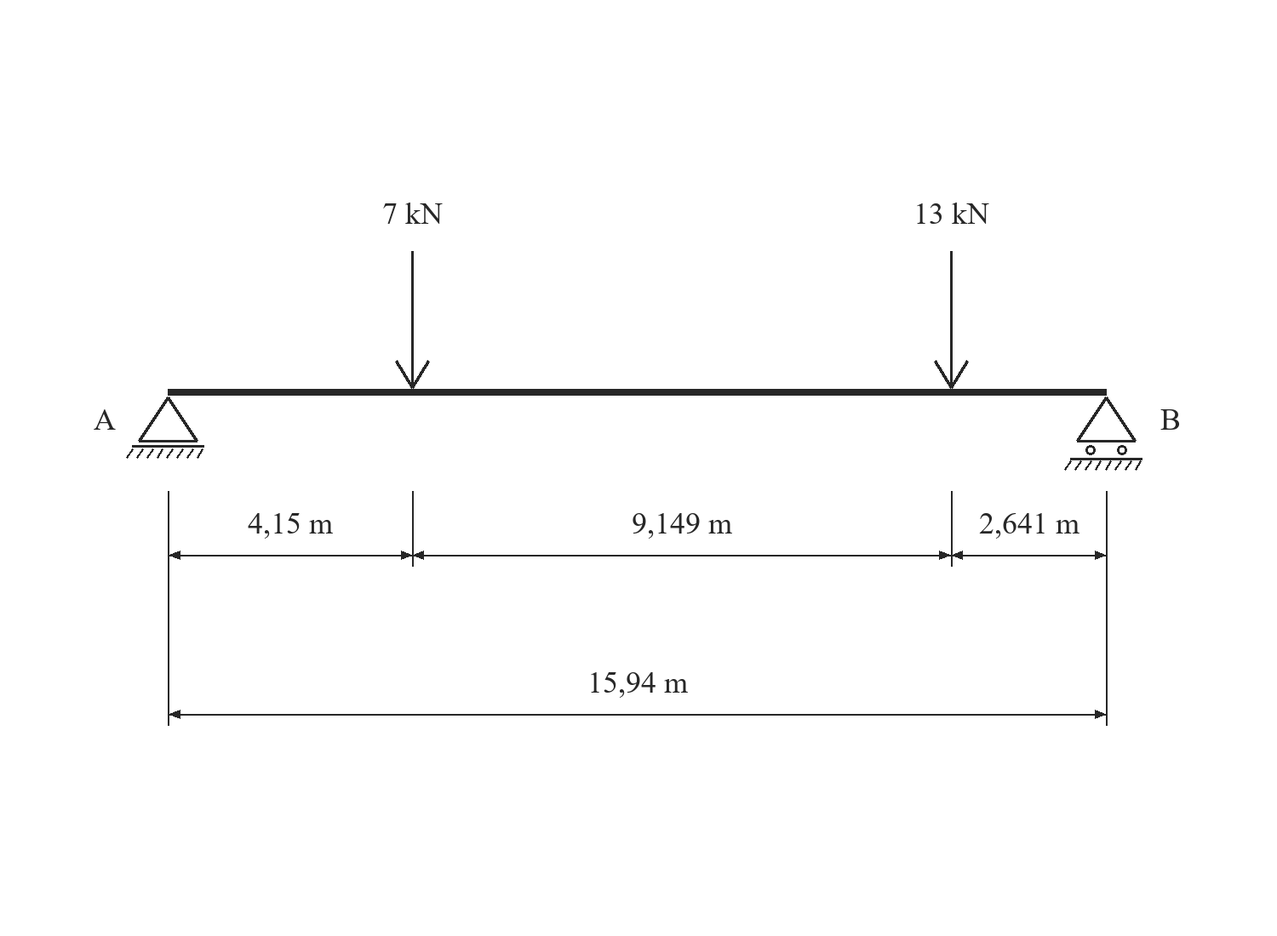pin_support: (126, 397, 204, 459)
point_load: (395, 251, 430, 389), (934, 251, 969, 389)
roller_support: (1064, 397, 1142, 471)
